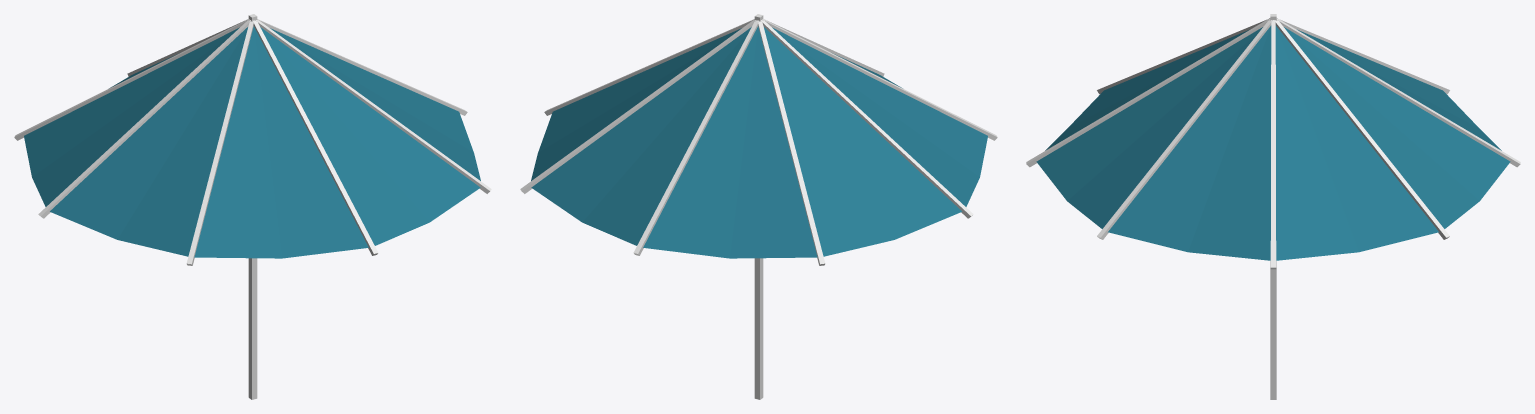
Rendered from umbrella_04.fbx.
The picture shows the model from 3 angles, left to right: view 1: azimuth 30°, elevation 25°; view 2: azimuth 150°, elevation 25°; view 3: azimuth 270°, elevation 25°; orthographic projection.
Visible parts, largest first — view 1: umbrella_04; view 2: umbrella_04; view 3: umbrella_04.
Boxes of the visible parts, bbox=[...] form: umbrella_04: bbox=[14, 14, 491, 399]; umbrella_04: bbox=[520, 14, 997, 399]; umbrella_04: bbox=[1026, 14, 1520, 399].
Bounding box in the file's own units: 3.66 × 3.14 × 3.66.
